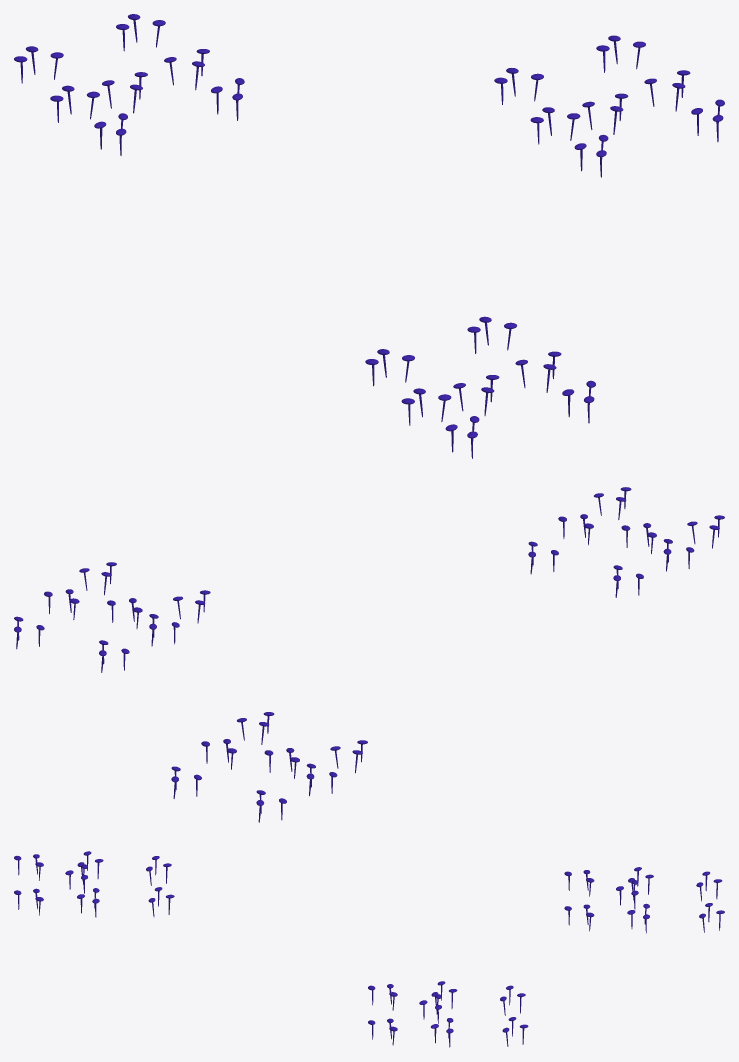
Rendered from poles.glb.
The picture shows the model from 3 angles, top to bottom: view 1: azimuth 30°, elevation 25°; view 2: azimuth 150°, elevation 25°; view 3: azimuth 270°, elevation 25°; orthographic projection. The views are drawn at different scales.
Parts seen in each view (by area): view 1: Retopo_inst_2.002; view 2: Retopo_inst_2.002; view 3: Retopo_inst_2.002.
Part boxes in pixels (x1,y1,x2,y2): Retopo_inst_2.002: (14, 14, 724, 458); Retopo_inst_2.002: (14, 487, 724, 822); Retopo_inst_2.002: (14, 851, 724, 1047).
Bounding box in the file's own units: 77.68 × 4.82 × 126.
